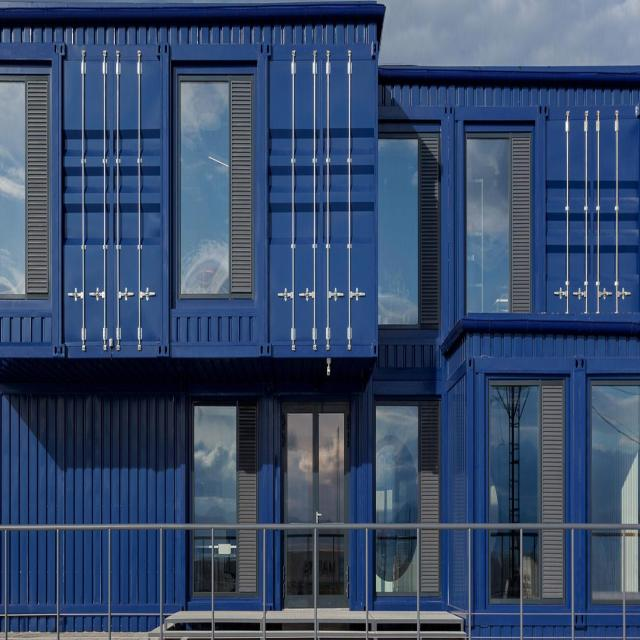Railing: (0, 522, 639, 630)
door: (283, 406, 352, 608)
windows: (487, 382, 542, 599), (589, 374, 640, 604), (178, 80, 232, 296), (188, 398, 238, 605), (377, 130, 421, 330), (377, 398, 422, 592), (466, 134, 511, 311), (0, 72, 27, 294)
